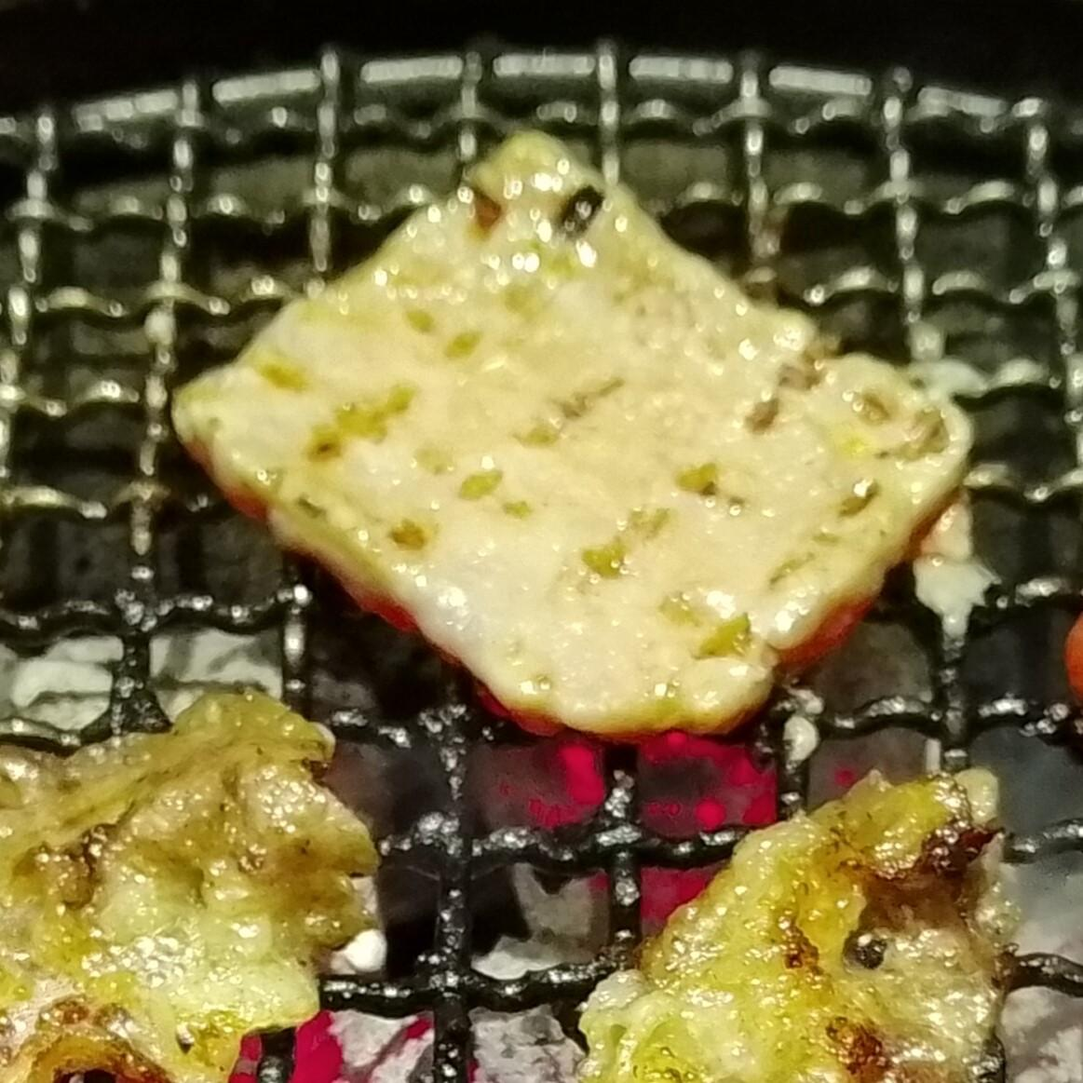Overcooked: (577, 771, 1021, 1082)
Undercooked: (167, 129, 973, 747)
Well-Cooked: (0, 692, 382, 1082)
